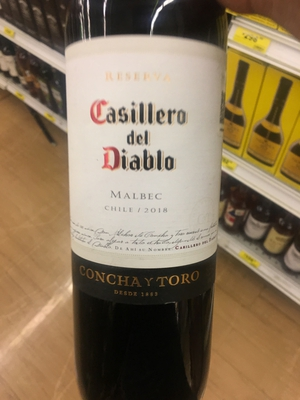casillero del diablo malbec: (57, 4, 251, 400)
